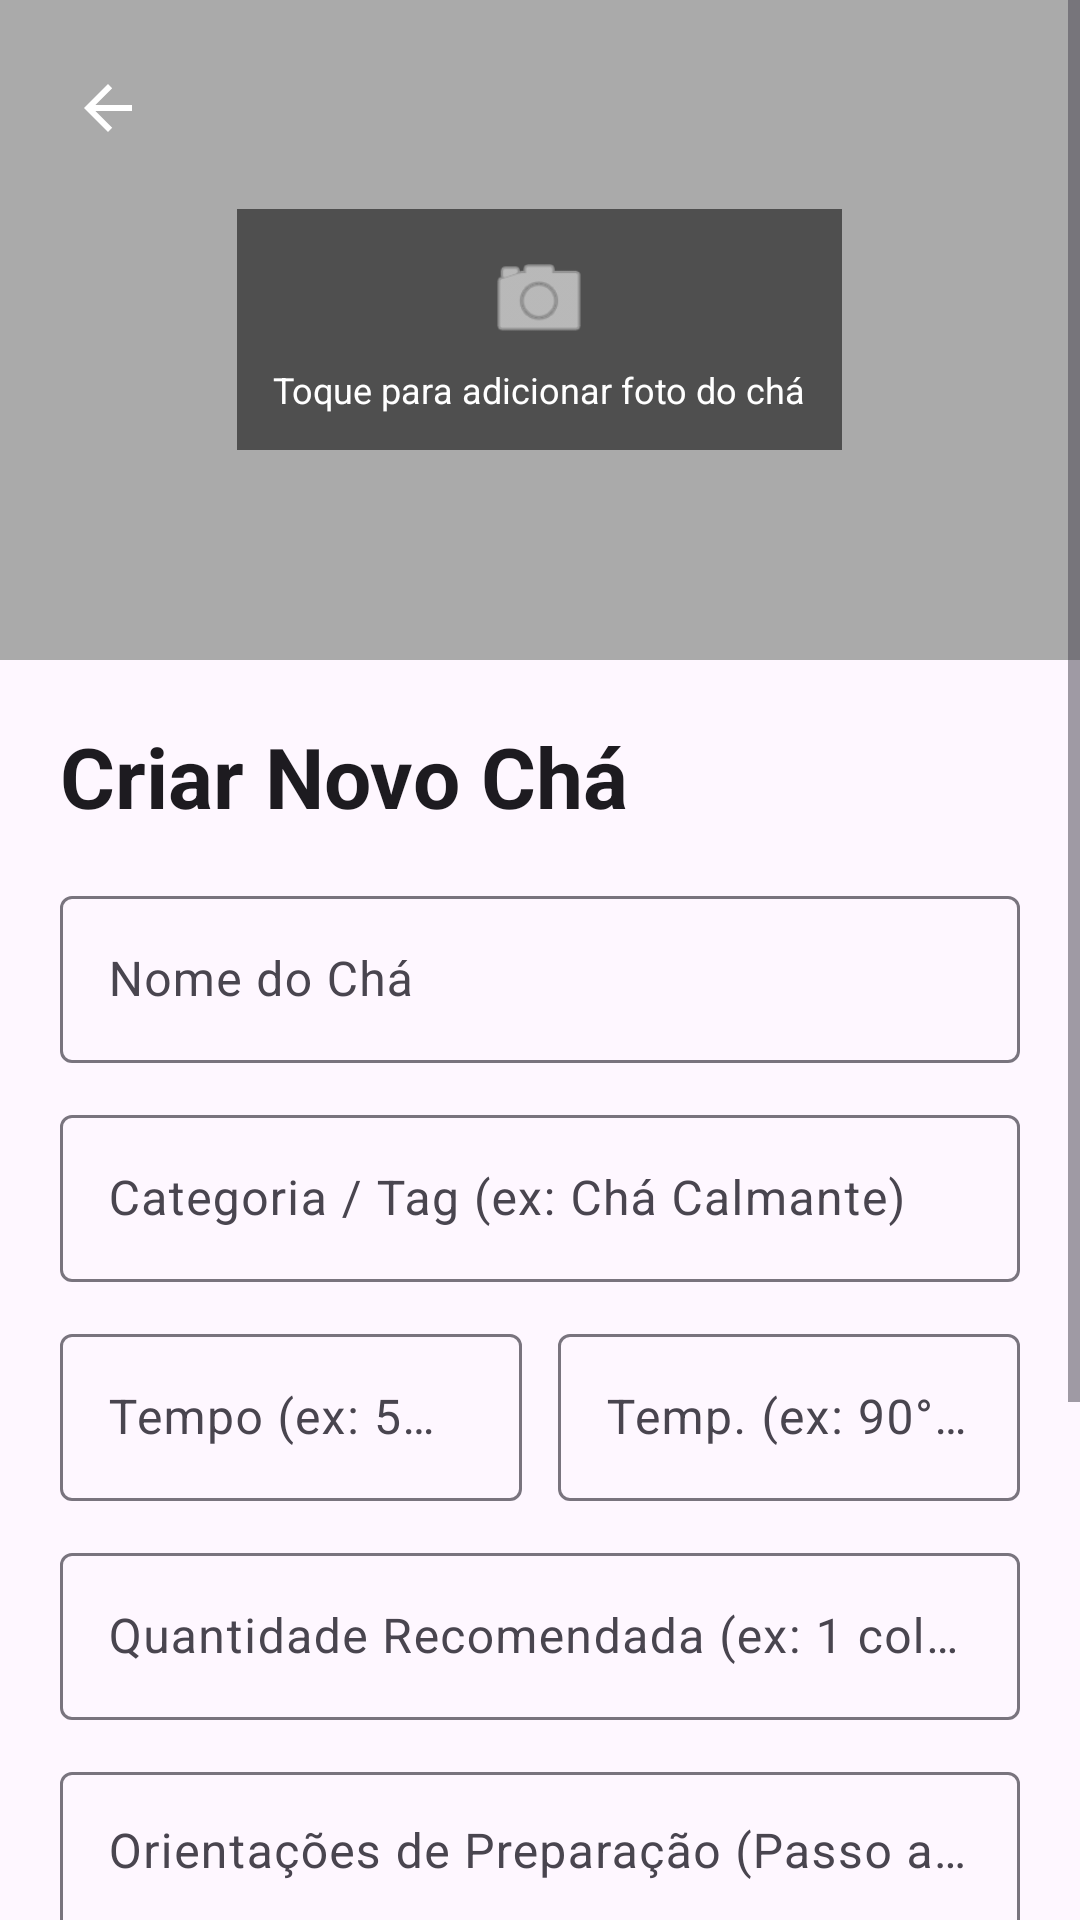

Screen size 1080w x 1920h. Icon name, then its center in pixels as (x=x, y=y):
Voltar: (x=108, y=108)
